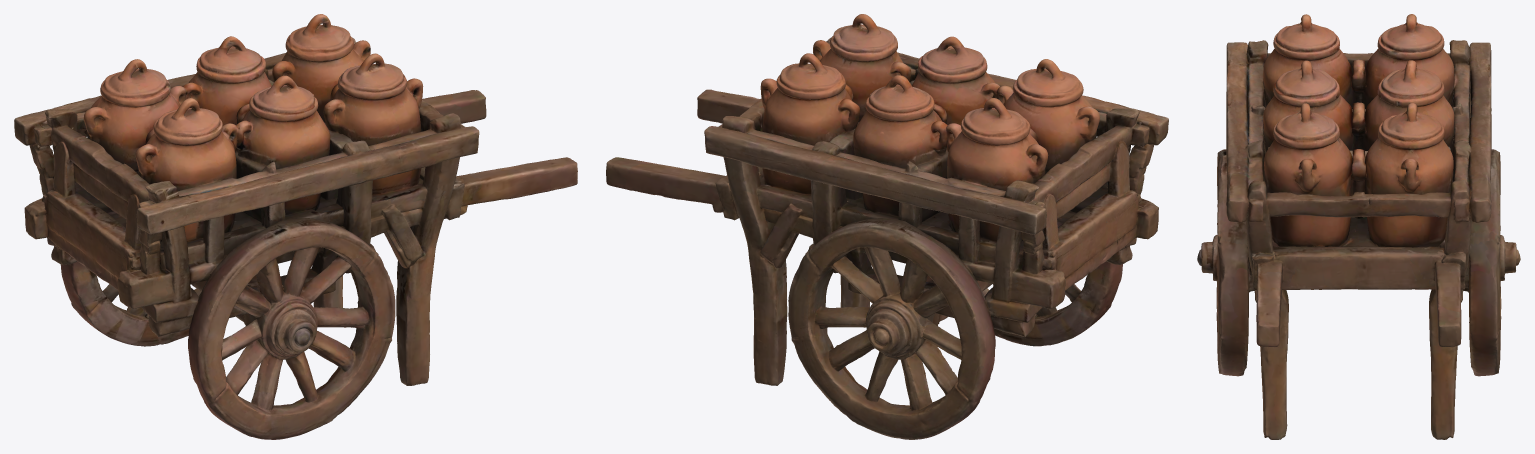
The model's file is carrinho_com vaso de barro.glb.
3 renders of one model, left to right at view 1: azimuth 30°, elevation 25°; view 2: azimuth 150°, elevation 25°; view 3: azimuth 270°, elevation 25°, orthographic.
Size of the model in its own units: 1.9 by 1.3 by 1.19.
Materials: 1 (1 with a texture image).
